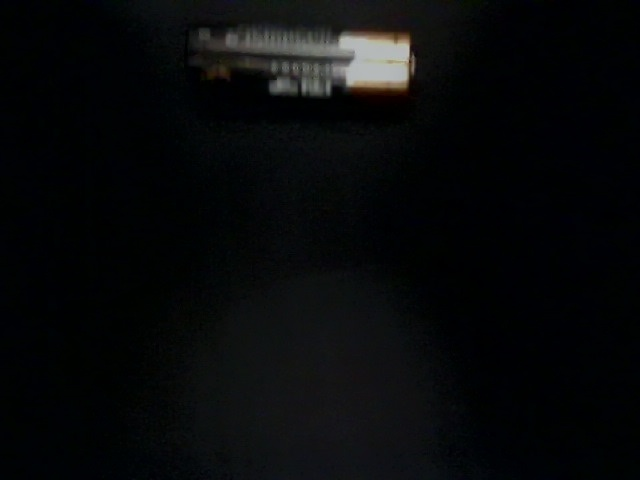QTLJ: (480, 97, 640, 300)
